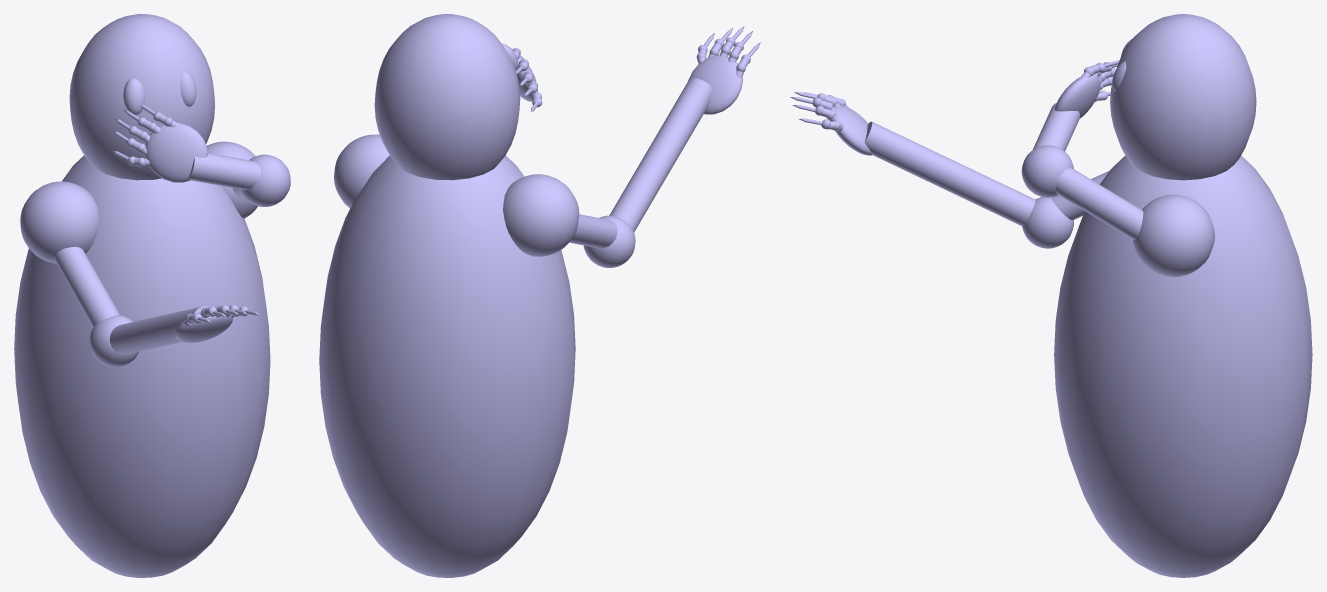
Rendered from GhostUVAnxiety.FBX.
3 renders of one model, left to right at view 1: azimuth 30°, elevation 25°; view 2: azimuth 150°, elevation 25°; view 3: azimuth 270°, elevation 25°, orthographic.
Parts seen in each view (by area): view 1: Ghost_Anxiety_New_UV; view 2: Ghost_Anxiety_New_UV; view 3: Ghost_Anxiety_New_UV.
Part boxes in pixels (x1,y1,x2,y2): Ghost_Anxiety_New_UV: [14, 14, 290, 577]; Ghost_Anxiety_New_UV: [319, 14, 760, 577]; Ghost_Anxiety_New_UV: [790, 14, 1312, 577].
Size of what is drawn, in the model's own units: 14.16 by 26.57 by 30.95.
